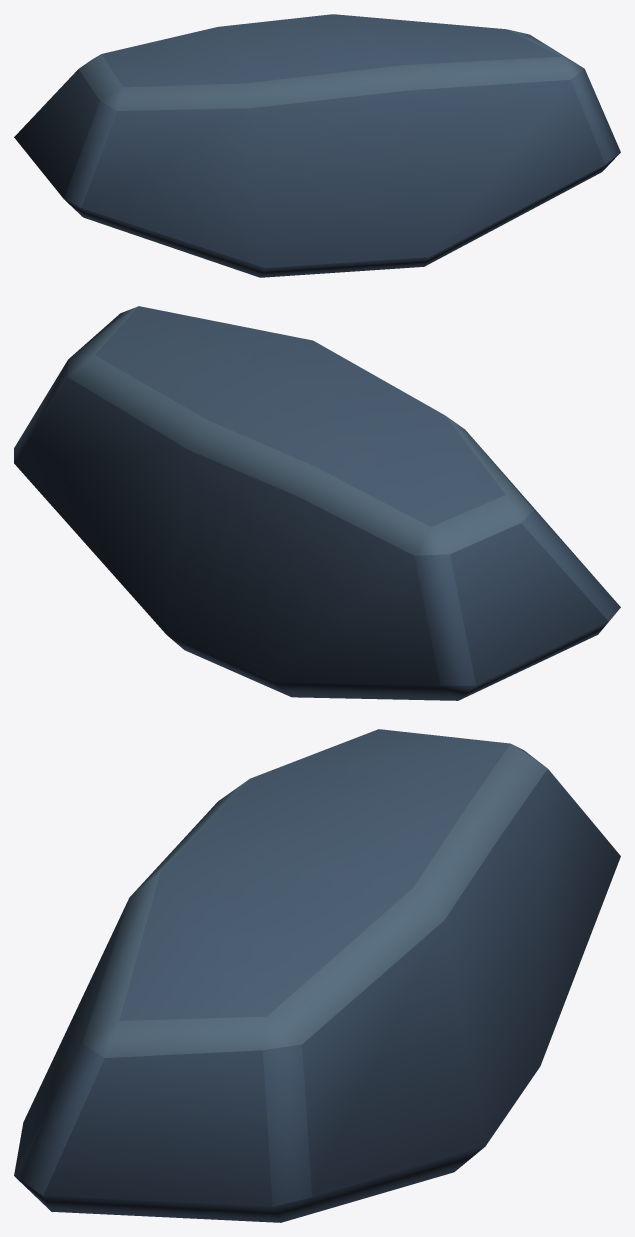
Rendered from rock_09.fbx.
3 views of the same model, one above another, from view 1: azimuth 30°, elevation 25°; view 2: azimuth 150°, elevation 25°; view 3: azimuth 270°, elevation 25° (orthographic). The views are drawn at different scales.
Parts seen in each view (by area): view 1: rock_09; view 2: rock_09; view 3: rock_09.
Boxes of the visible parts, x1,y1,x2,y2 form: rock_09: (14,14,620,277); rock_09: (14,306,620,700); rock_09: (14,729,620,1222).
Bounding box in the file's own units: 143 × 49.94 × 94.15.
Materials: 1 (1 with a texture image).
